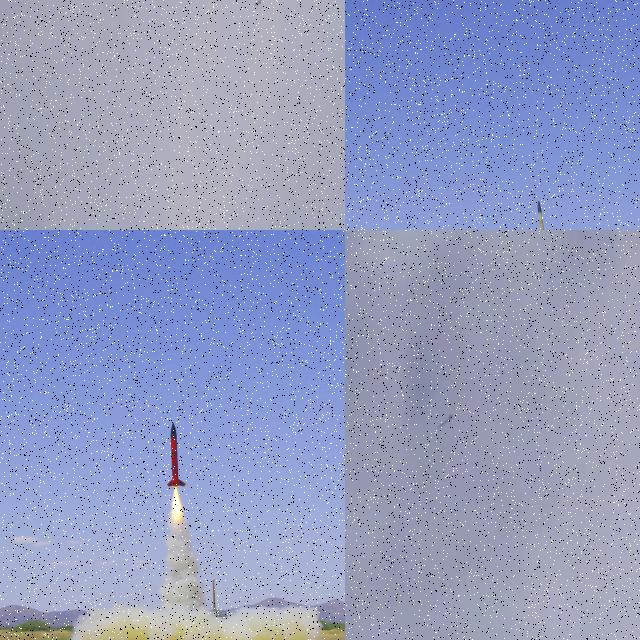Rocket: (166, 422, 186, 487), (537, 198, 551, 230), (438, 414, 452, 429), (253, 0, 263, 6)
